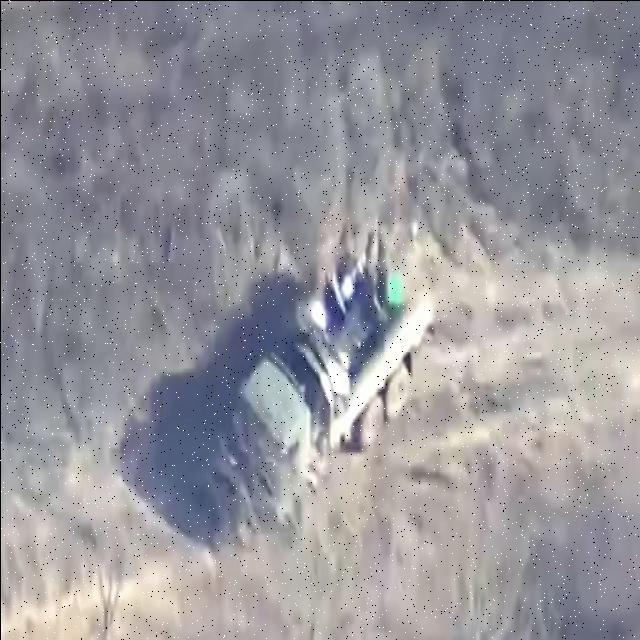TRUCK: (230, 207, 434, 531)
